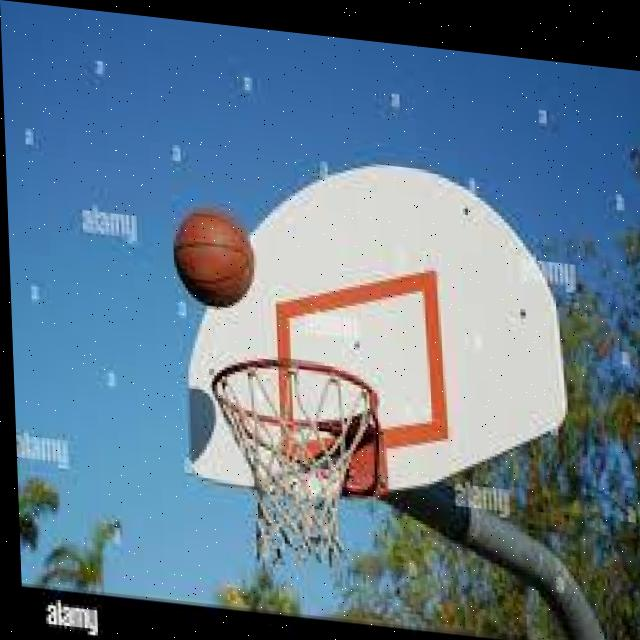basketball: (171, 204, 257, 314)
hoop: (211, 350, 384, 583)
